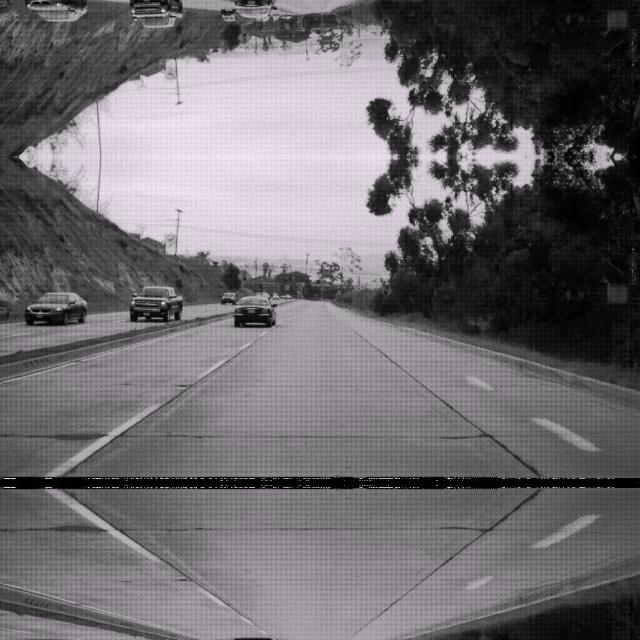signalAhead: (378, 15, 394, 30), (378, 282, 394, 296), (236, 268, 252, 282), (236, 30, 252, 44)
